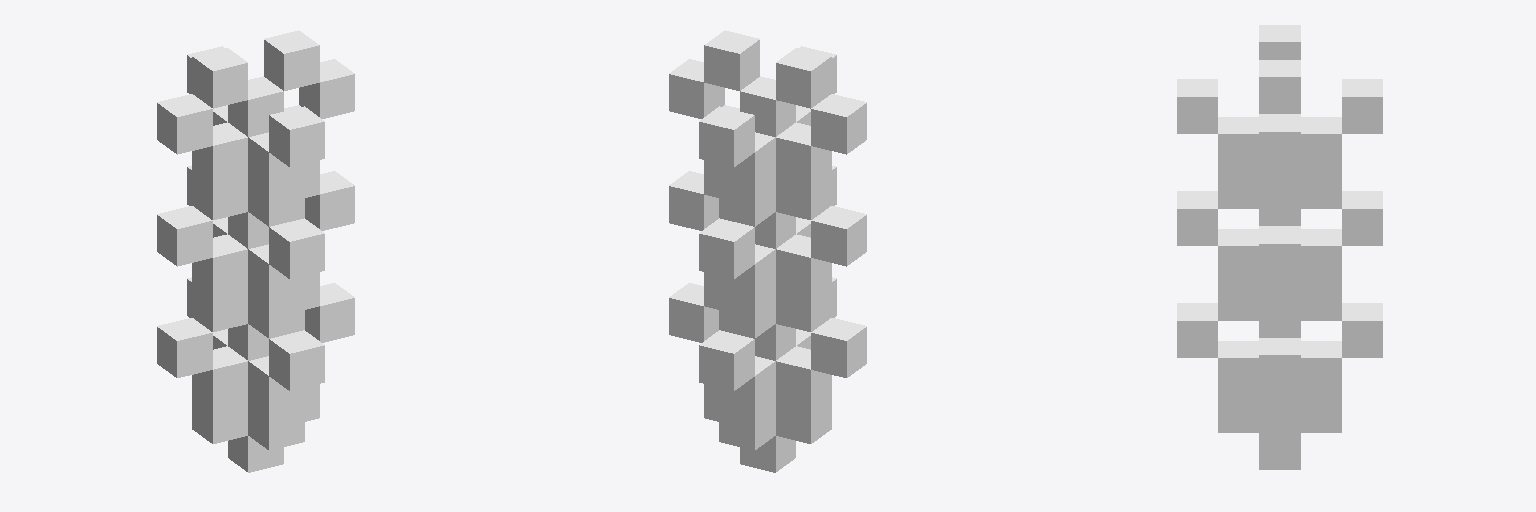
File: corn_full.obj
3 renders of one model, left to right at view 1: azimuth 30°, elevation 25°; view 2: azimuth 150°, elevation 25°; view 3: azimuth 270°, elevation 25°, orthographic.
Visible parts, largest first — view 1: object 1; view 2: object 1; view 3: object 1.
Part boxes in pixels (x1,y1,x2,y2): object 1: (157,30,354,472); object 1: (669,30,866,472); object 1: (1177,25,1382,469).
Size of the model in its own units: 0.5 by 1.1 by 0.5.